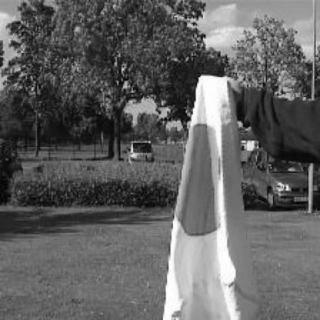other: (167, 124, 233, 251)
